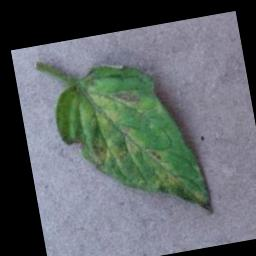Leaf_Mold: (46, 50, 208, 237)
